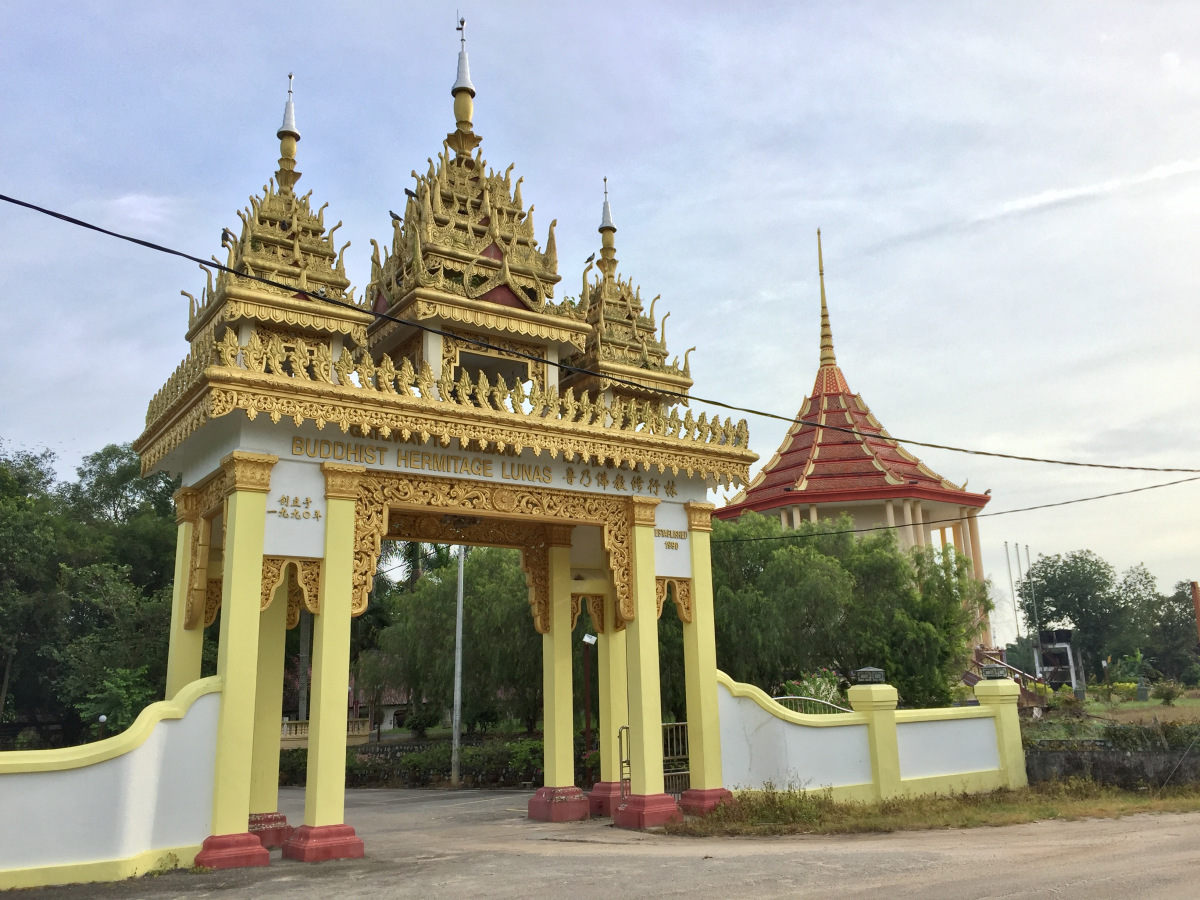Buddhist Temple: (154, 46, 719, 772)
